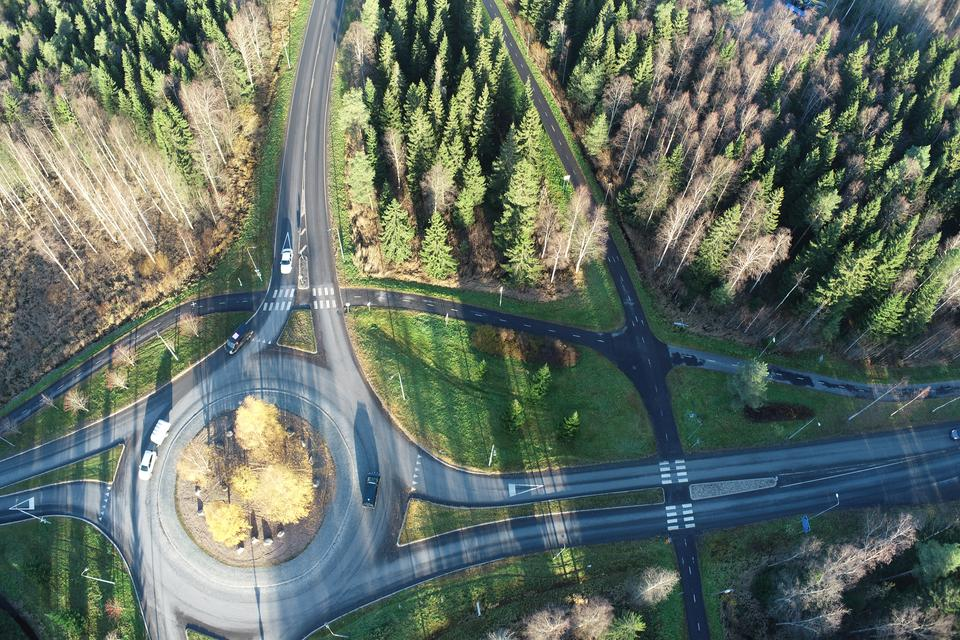intersection: (640, 434, 713, 551), (236, 276, 370, 323)
roundabout: (68, 330, 510, 640)
